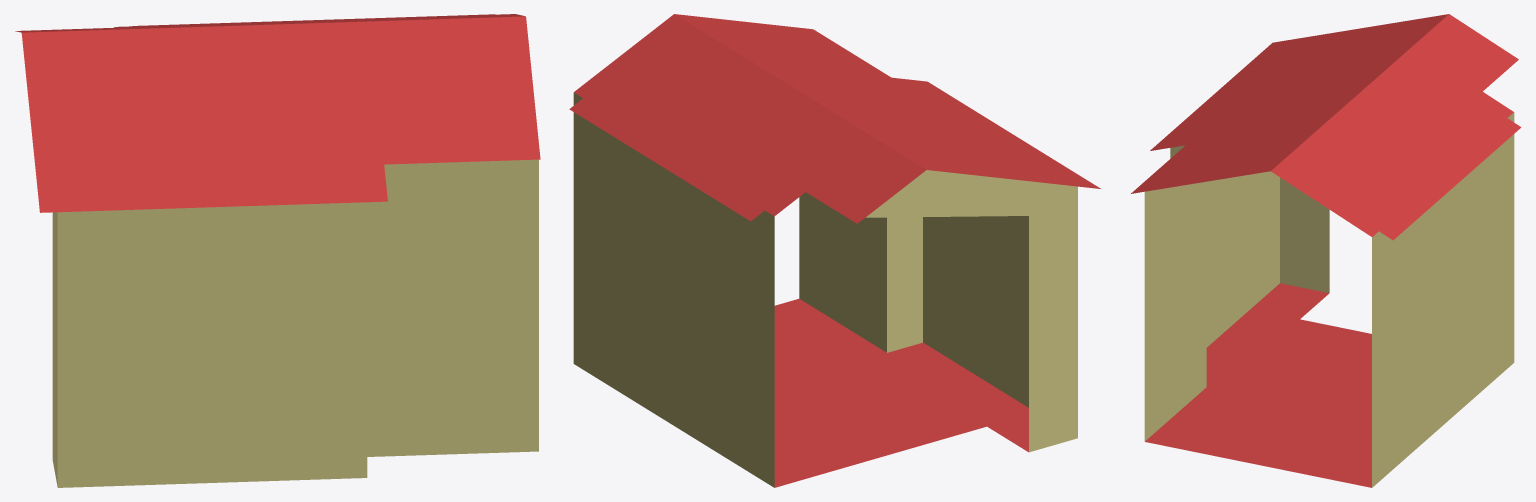
3 renders of one model, left to right at view 1: azimuth 30°, elevation 25°; view 2: azimuth 150°, elevation 25°; view 3: azimuth 270°, elevation 25°, orthographic. The views are drawn at different scales.
Size of the model in its own units: 16.03 by 12.41 by 10.36.
